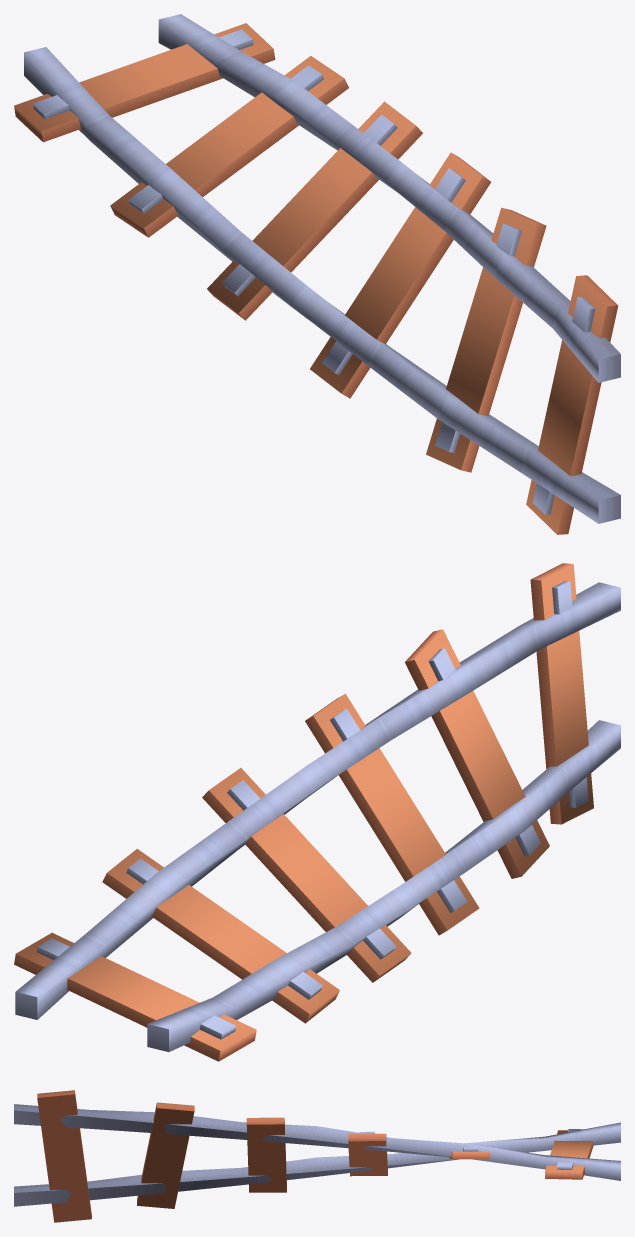
File: railroad-damaged-straight-skew-right-side.glb
3 views of the same model, one above another, from view 1: azimuth 30°, elevation 25°; view 2: azimuth 150°, elevation 25°; view 3: azimuth 270°, elevation 25° (orthographic). The views are drawn at different scales.
Parts seen in each view (by area): view 1: railroad-damaged-straight-skew-right-side; view 2: railroad-damaged-straight-skew-right-side; view 3: railroad-damaged-straight-skew-right-side.
Boxes of the visible parts, x1=… form: railroad-damaged-straight-skew-right-side: x1=14, y1=14, x2=620, y2=534; railroad-damaged-straight-skew-right-side: x1=14, y1=563, x2=620, y2=1061; railroad-damaged-straight-skew-right-side: x1=14, y1=1090, x2=620, y2=1222.
Bounding box in the file's own units: 1.01 × 1.02 × 4.
1 material, 1 textured.
